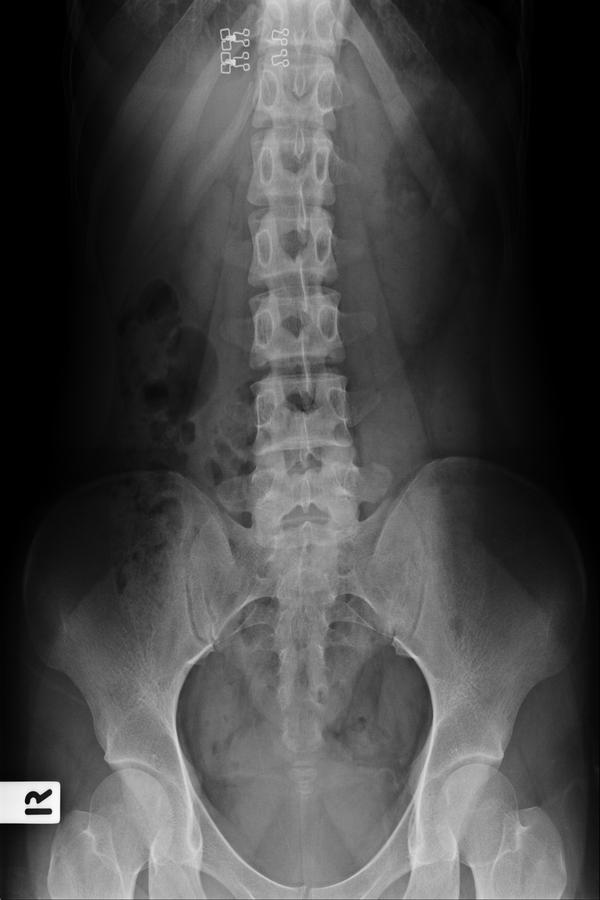lumbar scoliosis: (244, 152, 361, 547)
